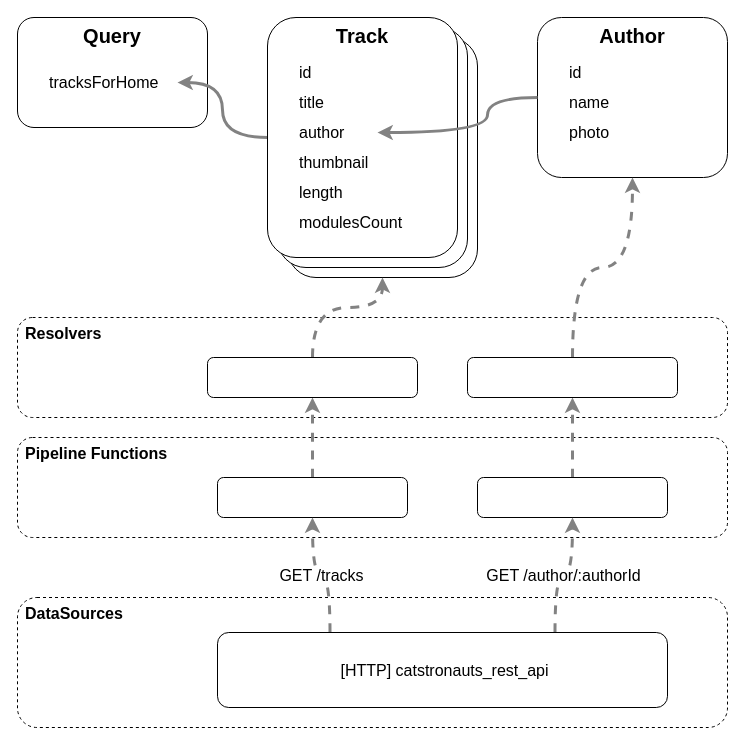
This 745x745 diagram has some shape labels left out. Each missing label, with the centre of its shape:
"getAuthor" belongs at point 572,497.
"getTracksForHome" belongs at point 312,497.
"Query.tracksForHome" belongs at point 312,377.
"Track.author" belongs at point 572,377.
